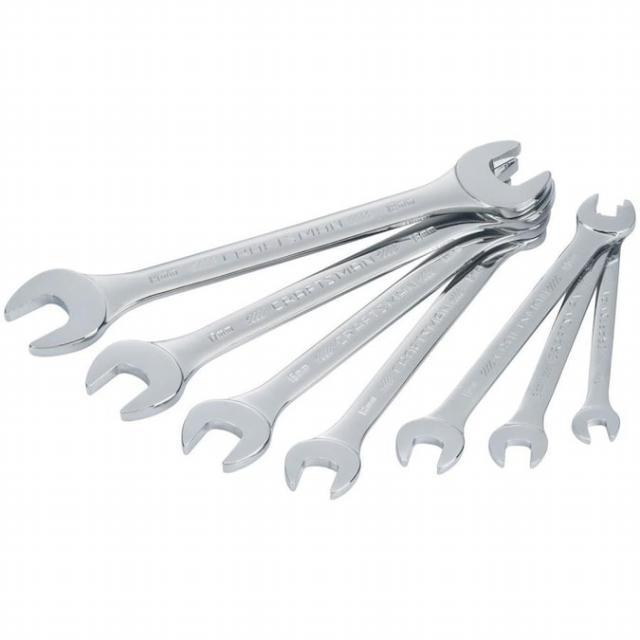wrench: (0, 140, 554, 358), (81, 160, 535, 420), (178, 184, 548, 476), (388, 196, 637, 472), (279, 238, 517, 506), (482, 207, 618, 470), (569, 230, 626, 450)
